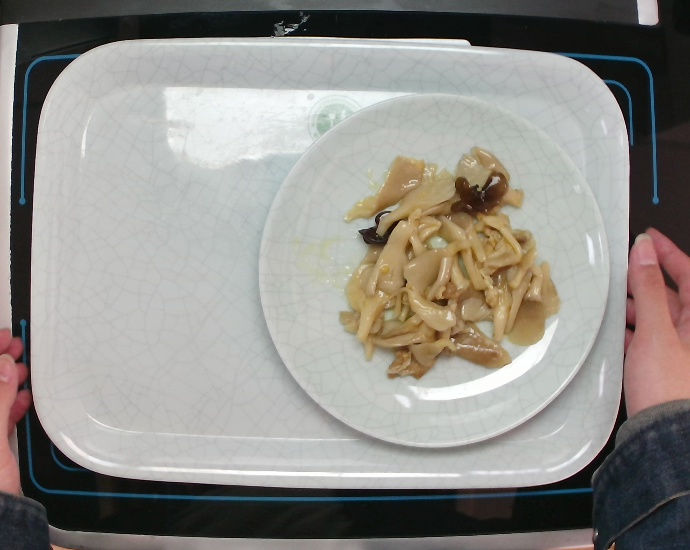JYsf-Da_Yuan_Pan: (254, 86, 616, 459)
